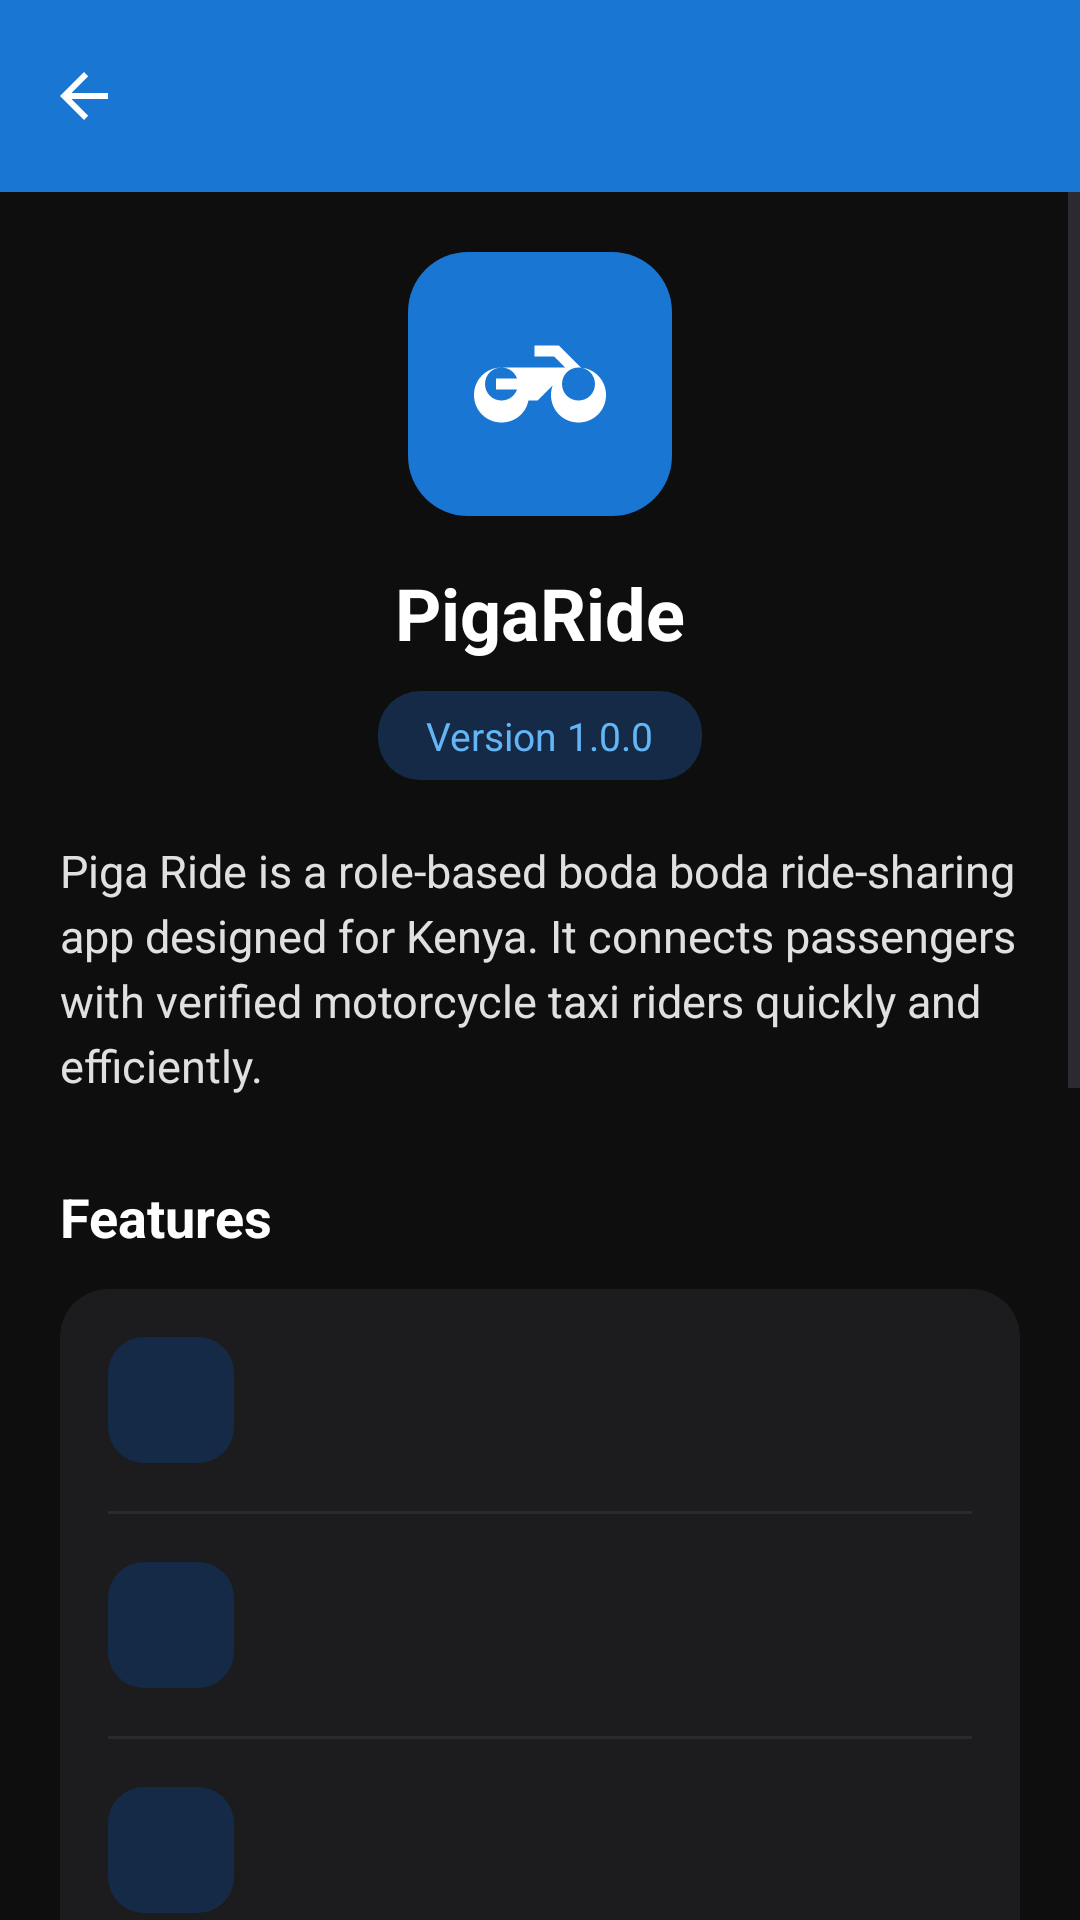

Point at icon controls on the screen. Image size 1080px x 1920px, points as point (x, y).
motorcycle: point (540, 384)
